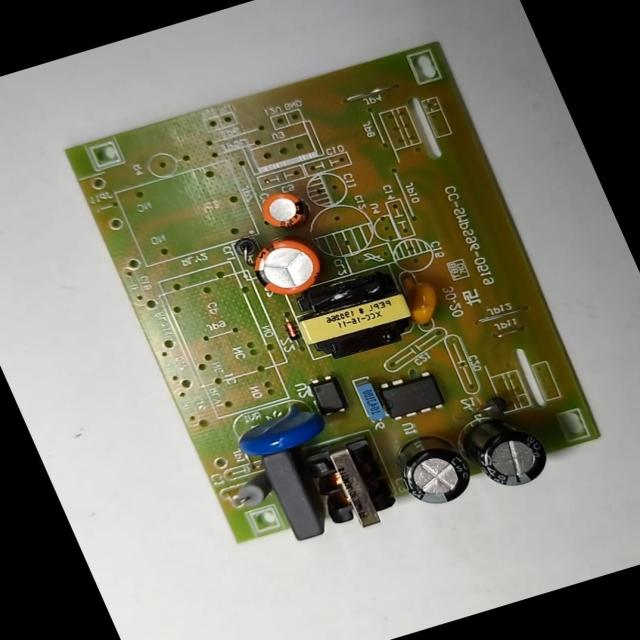Cap1: (244, 229, 328, 302)
Cap2: (253, 184, 311, 233)
Cap3: (384, 423, 482, 512)
Cap4: (451, 400, 559, 498)
MOSFET: (376, 368, 446, 424)
Mov: (227, 393, 333, 462)
Resistor: (228, 471, 277, 512)
Transformer: (282, 260, 425, 367), (293, 429, 407, 541)
